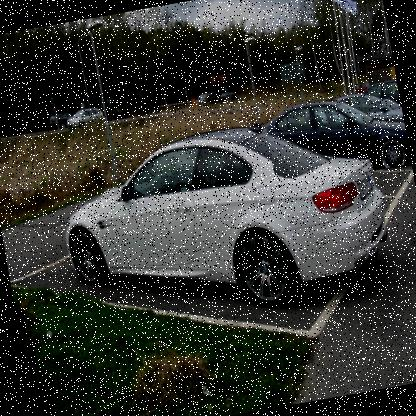Car: (46, 102, 404, 345), (262, 86, 411, 188), (303, 88, 404, 141), (361, 76, 398, 104), (64, 105, 102, 125), (382, 84, 401, 112), (47, 113, 72, 130), (194, 92, 218, 106), (218, 90, 237, 102)
